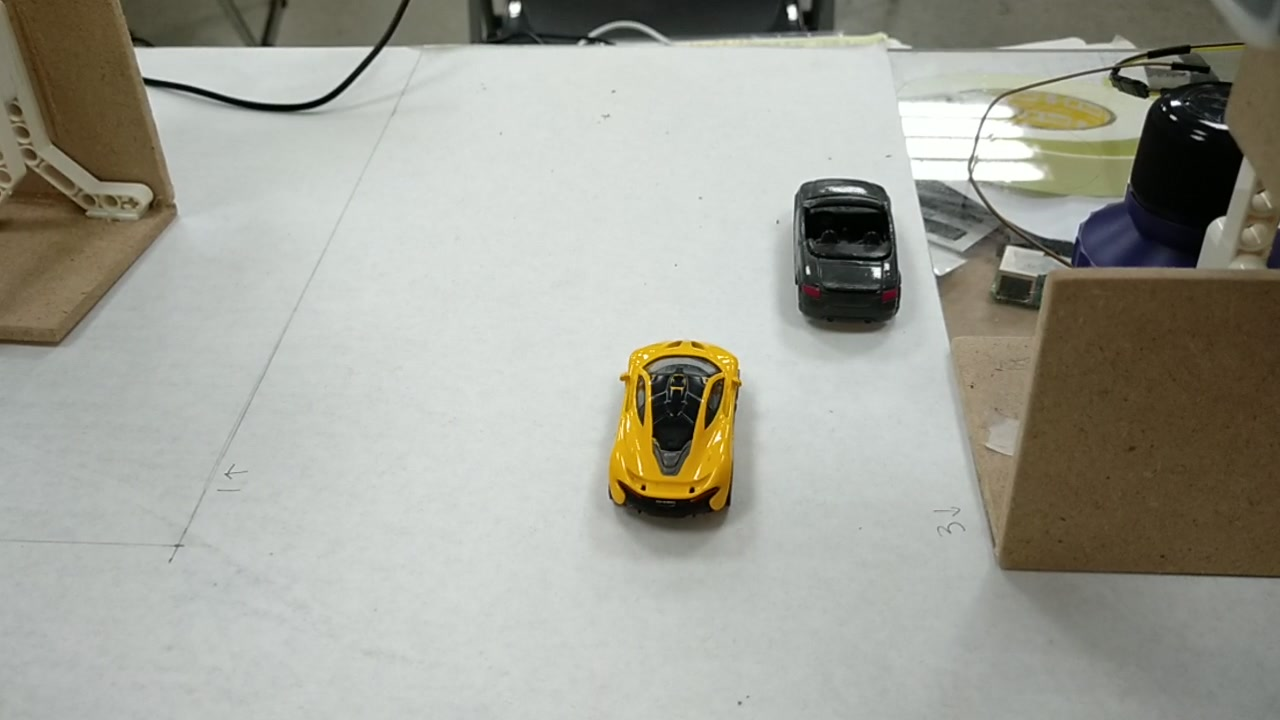car: (613, 341, 753, 501), (796, 180, 893, 308)
